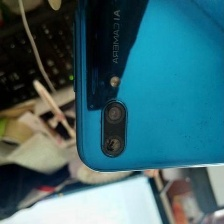phone: (71, 0, 224, 181)
